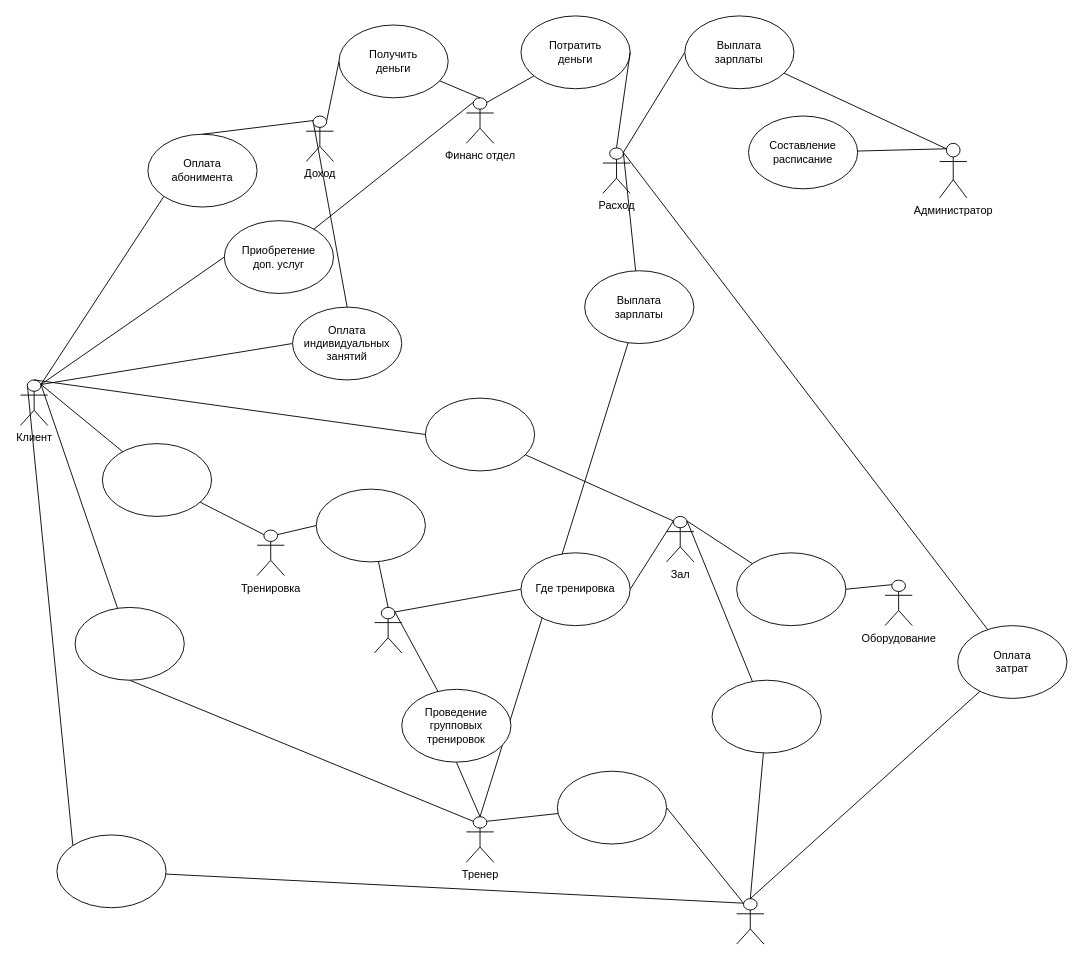
This 1083x979 diagram has some shape labels left out. Each missing label, with the centre of its shape:
"Где событие" goes at point 766,716.
"Когда тренировка" goes at point 370,525.
"Кто проводит" goes at point 611,807.
"Посещение групповых тренировок" goes at point 156,479.
"Посещение события" goes at point 111,871.
"Посещение спортзала" goes at point 480,434.
"Проводение индивидуальных занятий" goes at point 129,643.
"Расписание тренировок" goes at point 388,630.
"Событие" goes at point 750,921.
"Хранение" goes at point 791,589.
